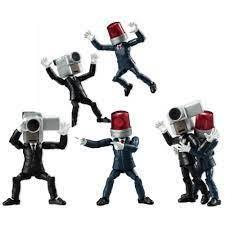no more kid: (166, 99, 206, 137), (21, 108, 60, 145), (54, 50, 86, 80)
